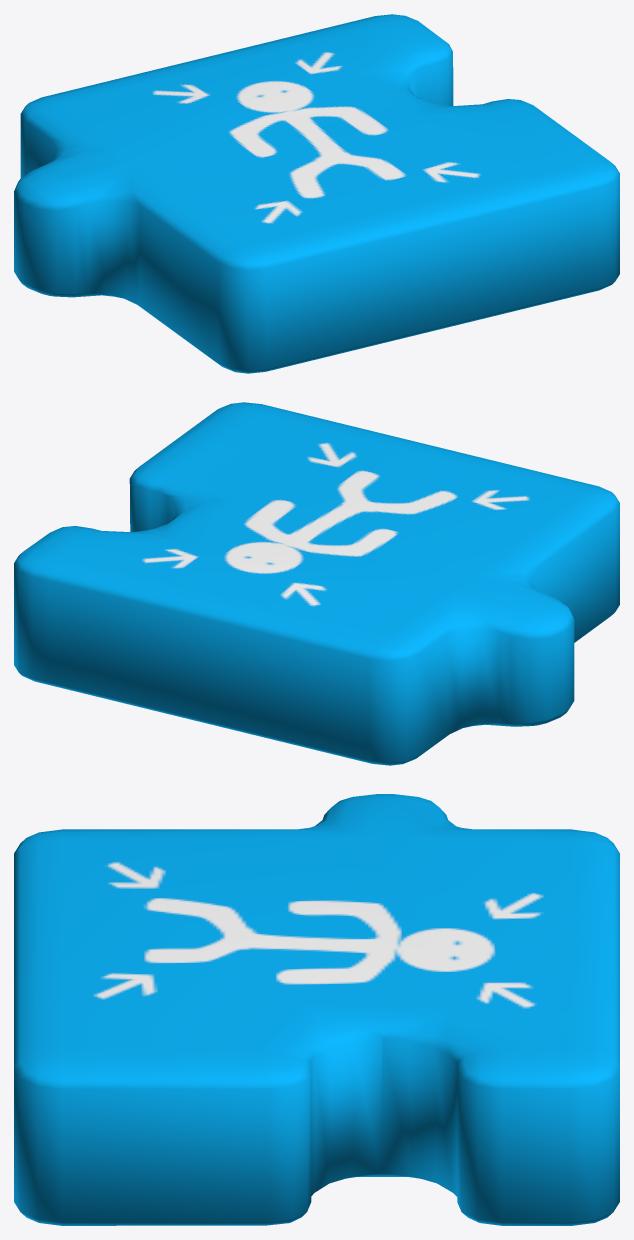
The model's file is bloqueEncoger.fbx.
3 views of the same model, one above another, from view 1: azimuth 30°, elevation 25°; view 2: azimuth 150°, elevation 25°; view 3: azimuth 270°, elevation 25° (orthographic). The views are drawn at different scales.
Visible parts, largest first — view 1: BloqueEncoger; view 2: BloqueEncoger; view 3: BloqueEncoger.
Part boxes in pixels (x1,y1,x2,y2): BloqueEncoger: [14, 14, 619, 373]; BloqueEncoger: [14, 402, 619, 765]; BloqueEncoger: [14, 794, 619, 1225].
Bounding box in the file's own units: 238 × 59.47 × 200.
